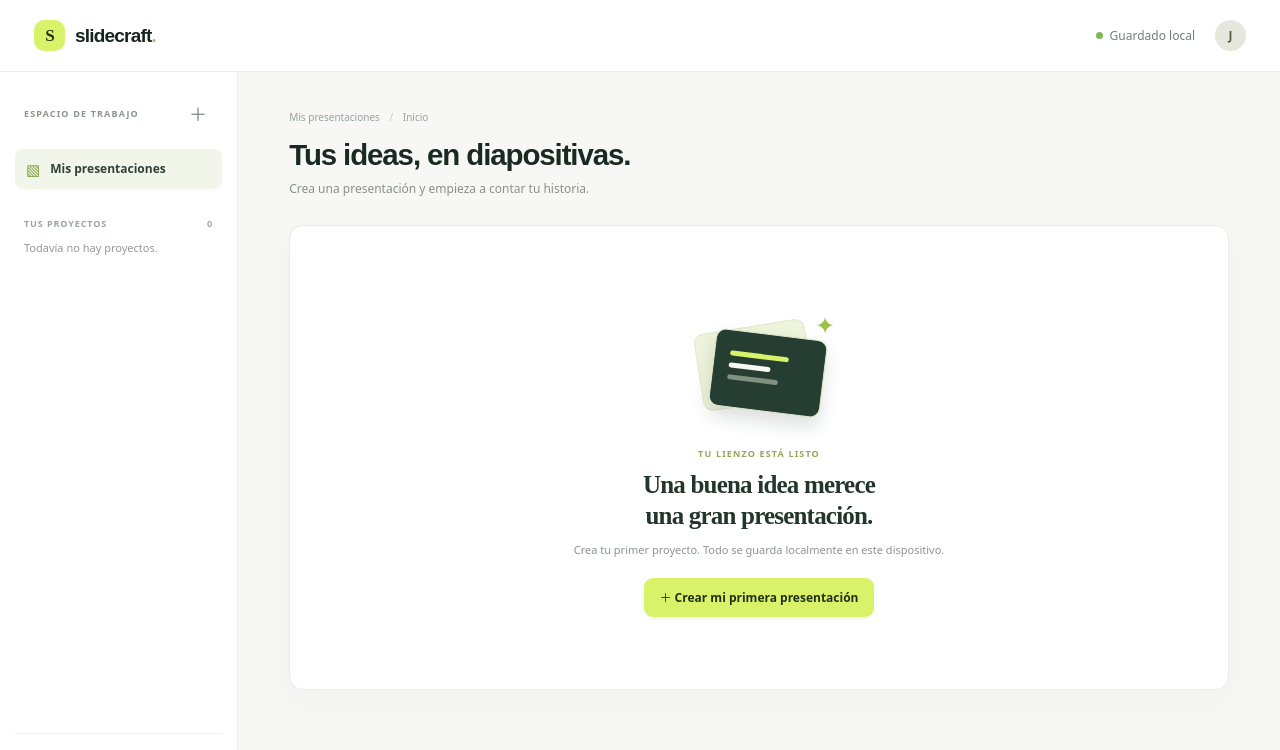
Scenario: Fase 3: componentes, layouts y presentación › creates the required cover when the first slide is added from the page heading
Click the button "＋ Crear mi primera presentación" at (759, 598), box [644, 578, 874, 617]
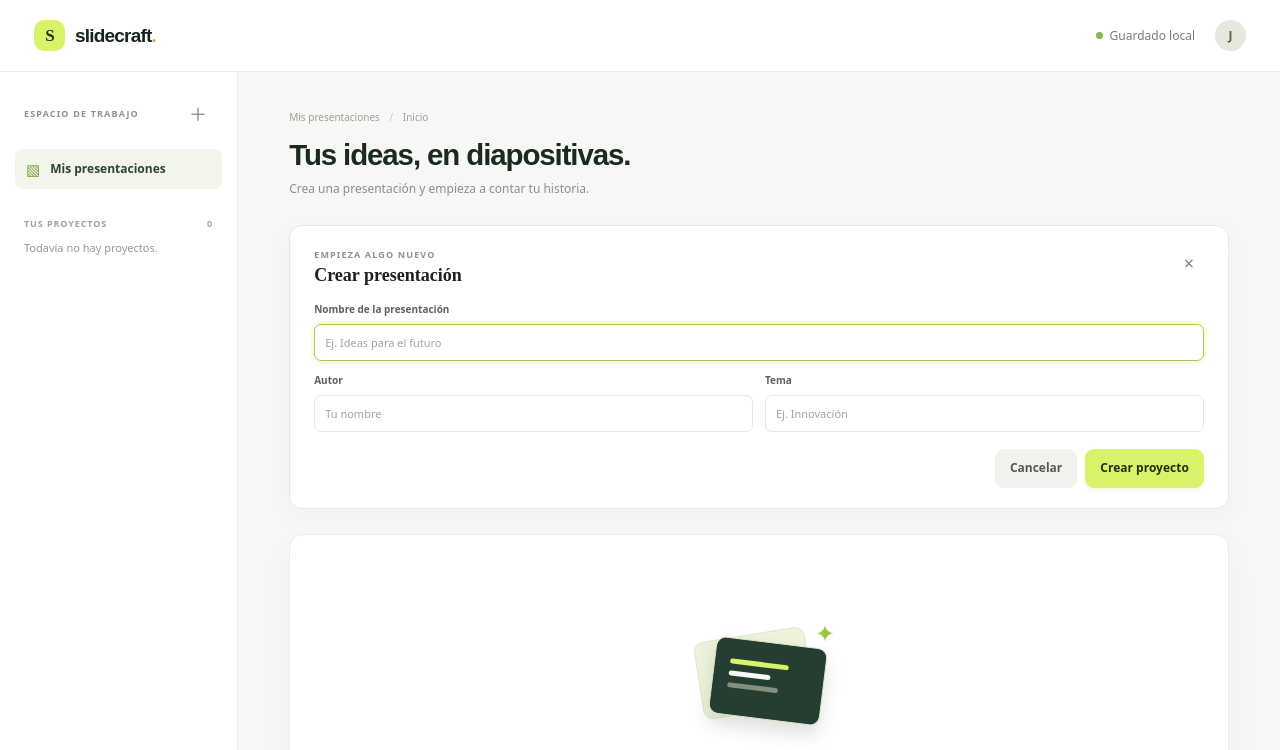
Type "Portada inicial" into the field labelled "Nombre de la presentación" at (759, 342), box [314, 324, 1204, 360]
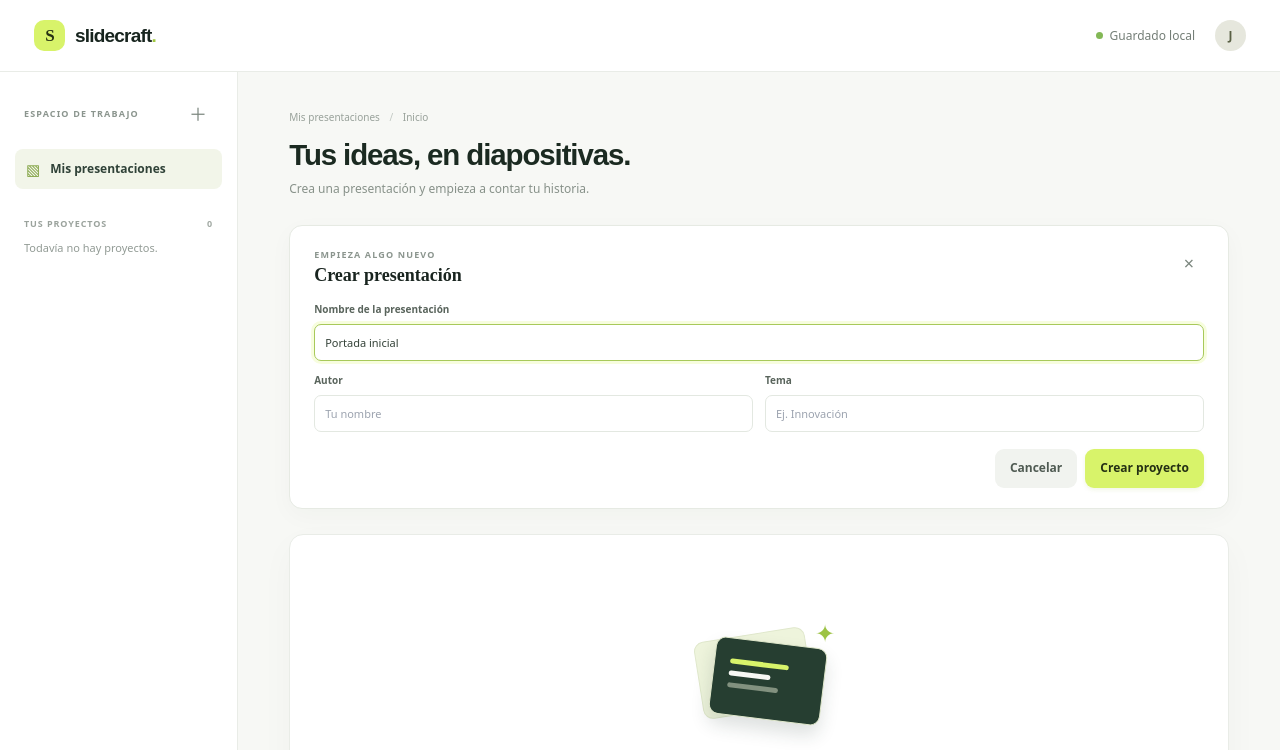
Type "Ada" into the field labelled "Autor" at (534, 413), box [314, 394, 753, 432]
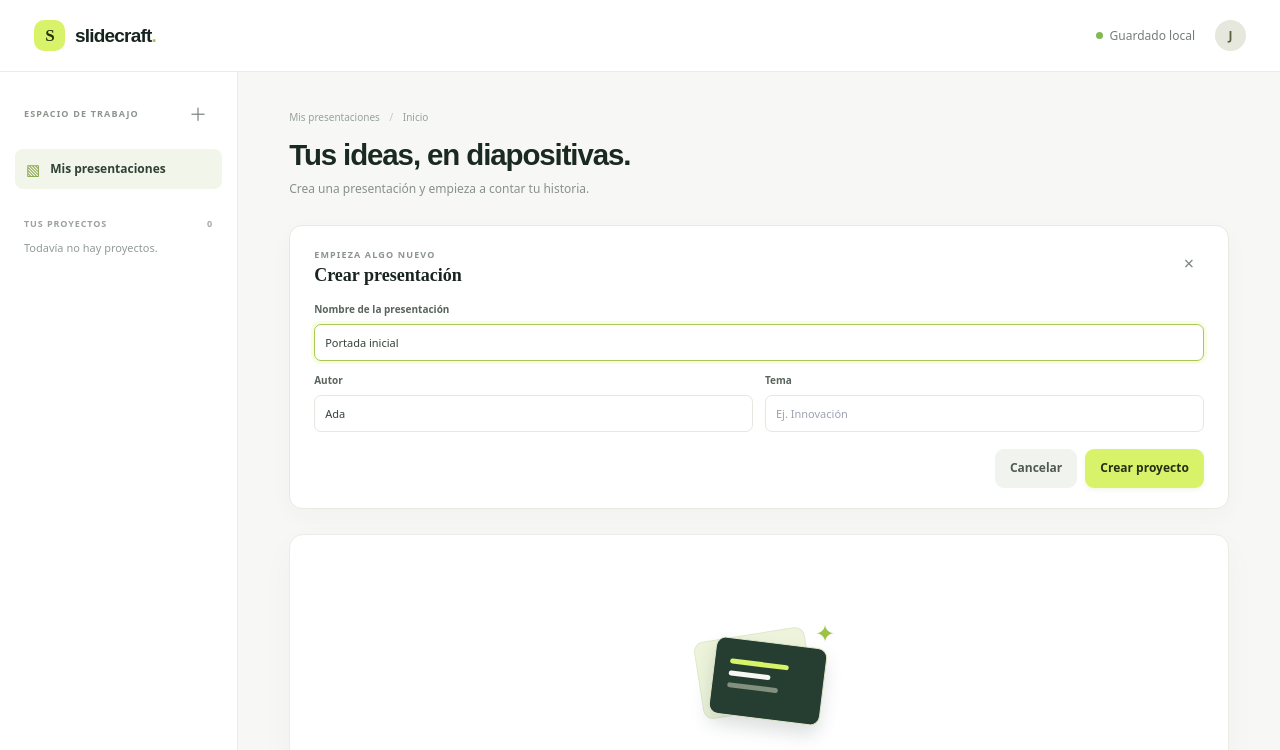
Type "Ideas" into the field labelled "Tema" at (984, 413), box [765, 394, 1204, 432]
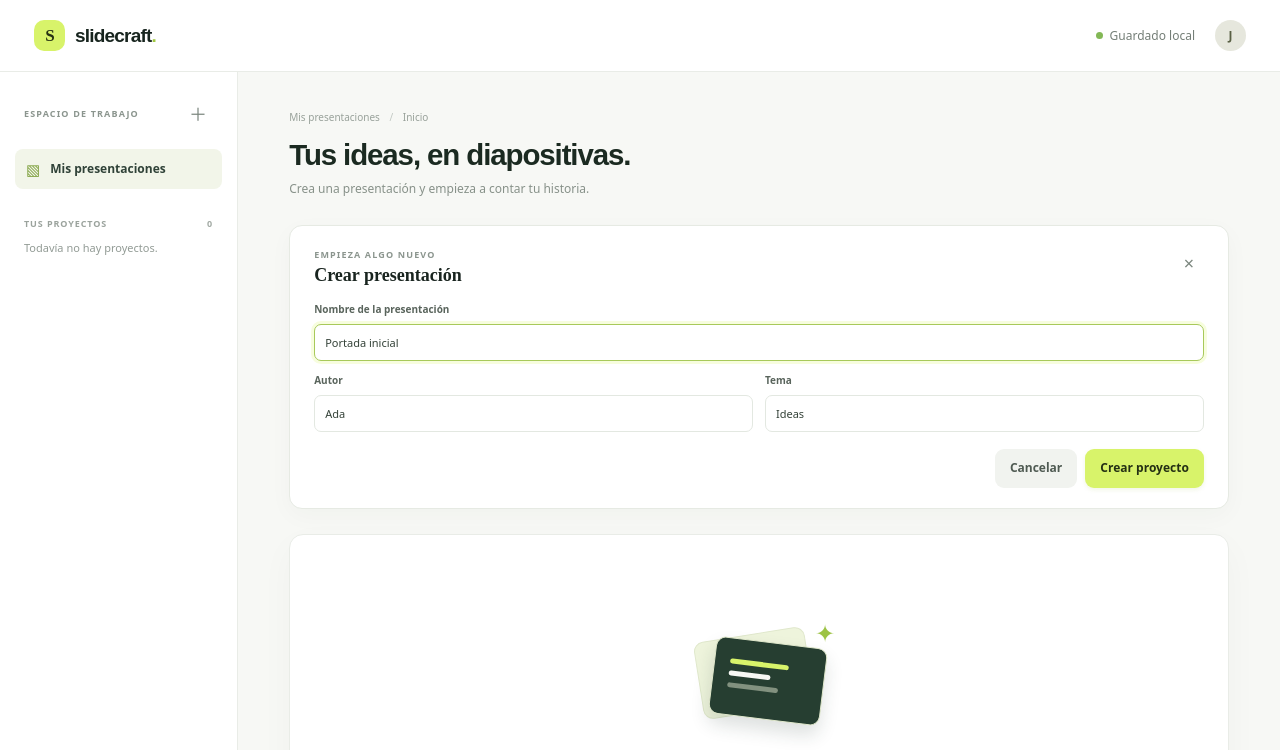
Click the button "Crear proyecto" at (1145, 468), box [1085, 448, 1204, 488]
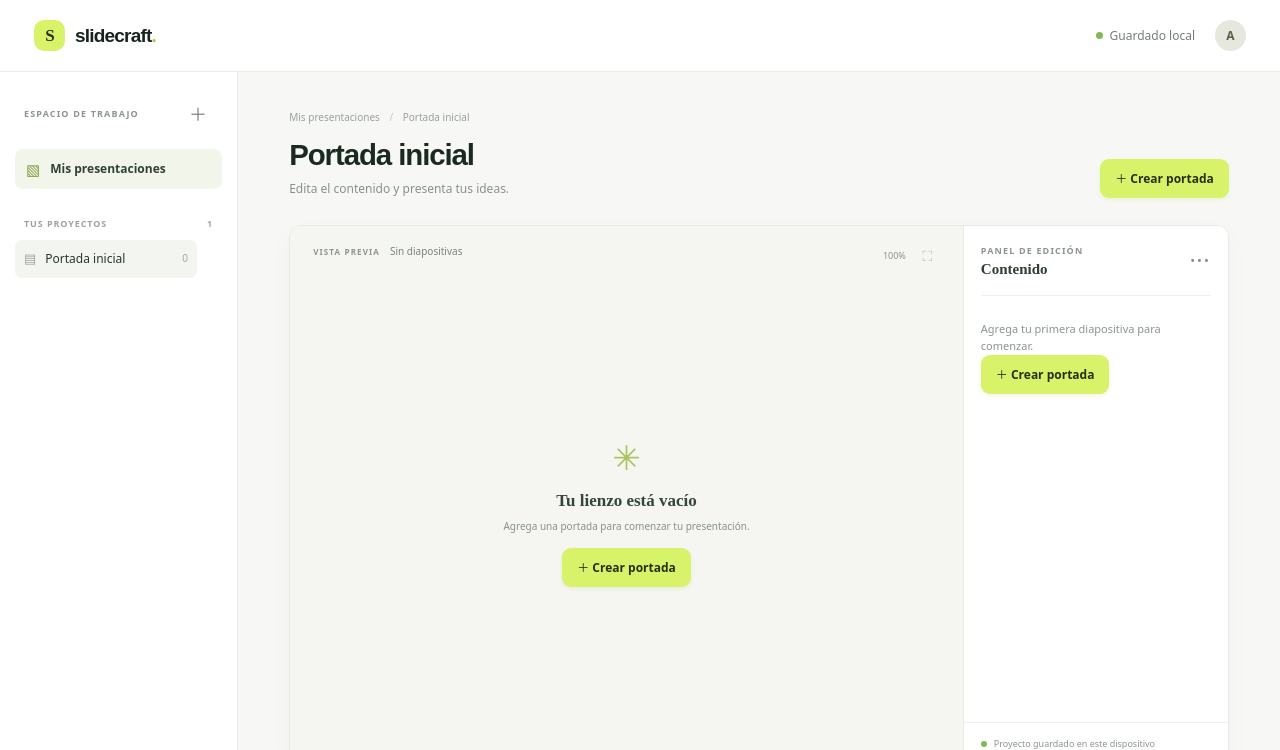
Now the heading "Portada inicial" is shown, box [289, 138, 474, 171]
Click the button "＋ Crear portada" in the row of "Edita el contenido y presenta tus ideas." at (1165, 178), box [1100, 159, 1229, 198]
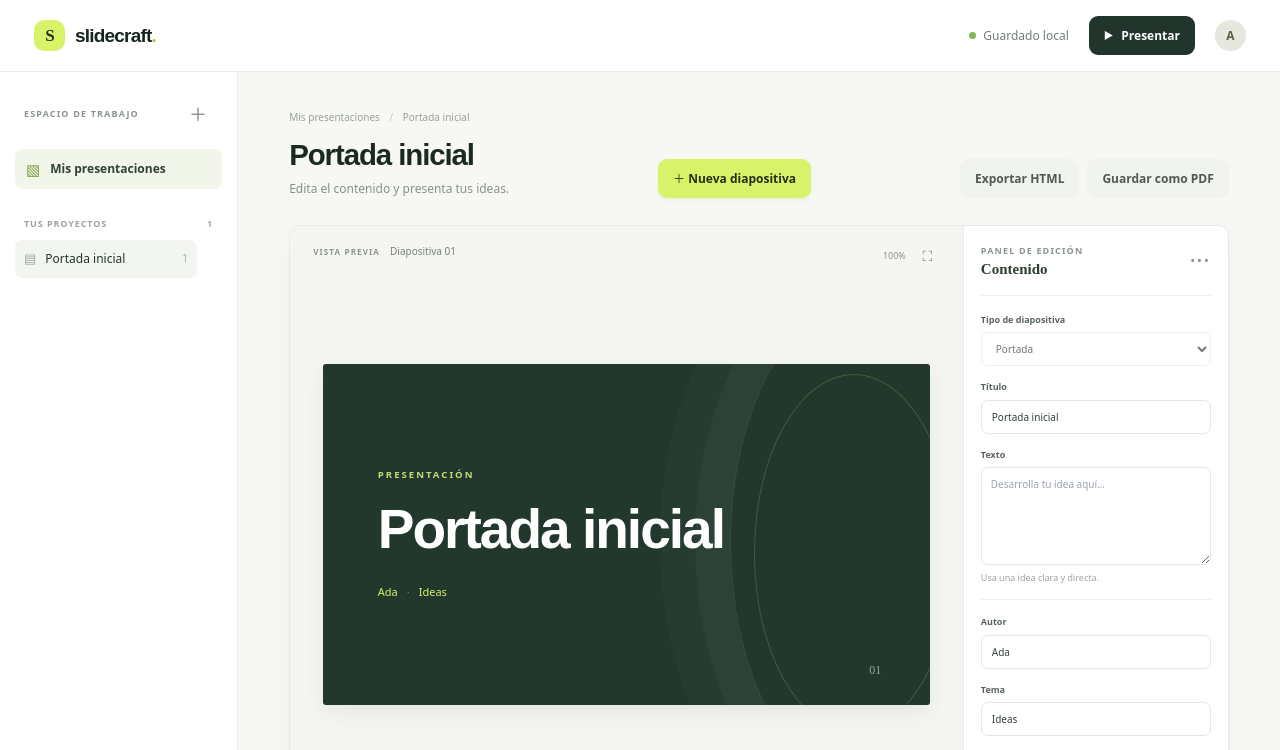
Now the dropdown labelled "Tipo de diapositiva" shows "Portada", box [981, 332, 1211, 366]
Now the dropdown labelled "Tipo de diapositiva" is disabled, box [981, 332, 1211, 366]
